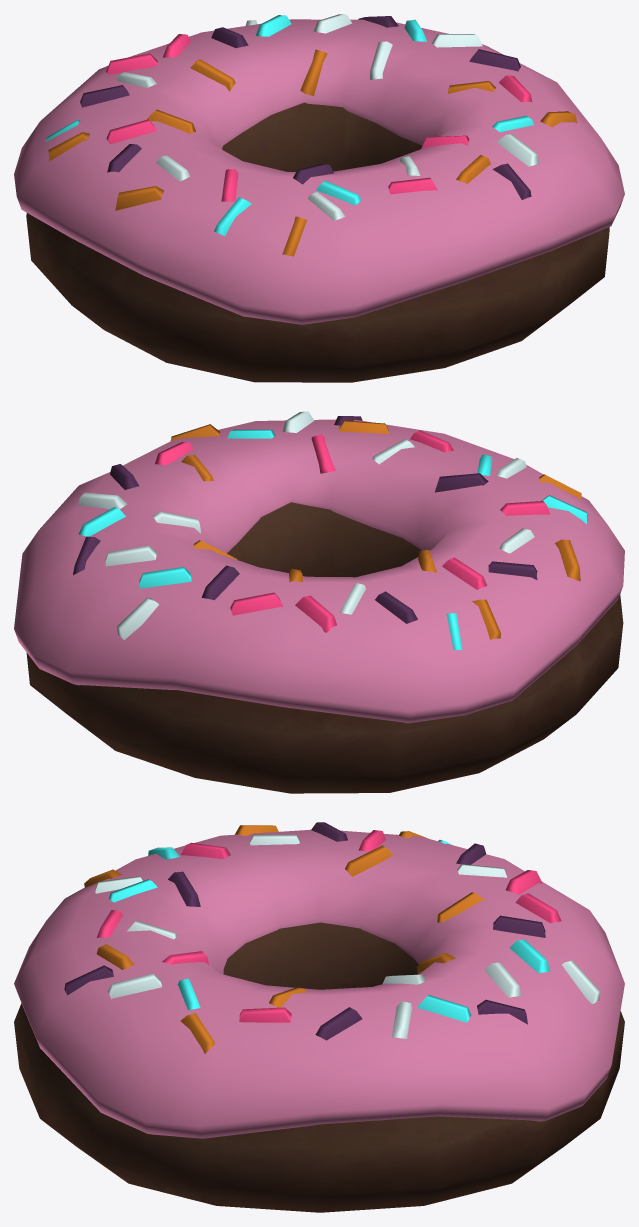
The model's file is donut sprink.glb.
The picture shows the model from 3 angles, top to bottom: view 1: azimuth 30°, elevation 25°; view 2: azimuth 150°, elevation 25°; view 3: azimuth 270°, elevation 25°; orthographic projection. The views are drawn at different scales.
Visible parts, largest first — view 1: donut_sprinkles_01; view 2: donut_sprinkles_01; view 3: donut_sprinkles_01.
Part boxes in pixels (box(x1,y1,x2,y2)): donut_sprinkles_01: box(14, 14, 624, 382); donut_sprinkles_01: box(14, 411, 624, 793); donut_sprinkles_01: box(14, 822, 624, 1212).
Bounding box in the file's own units: 0.1789 × 0.0642 × 0.1783.
Materials: 1 (1 with a texture image).
